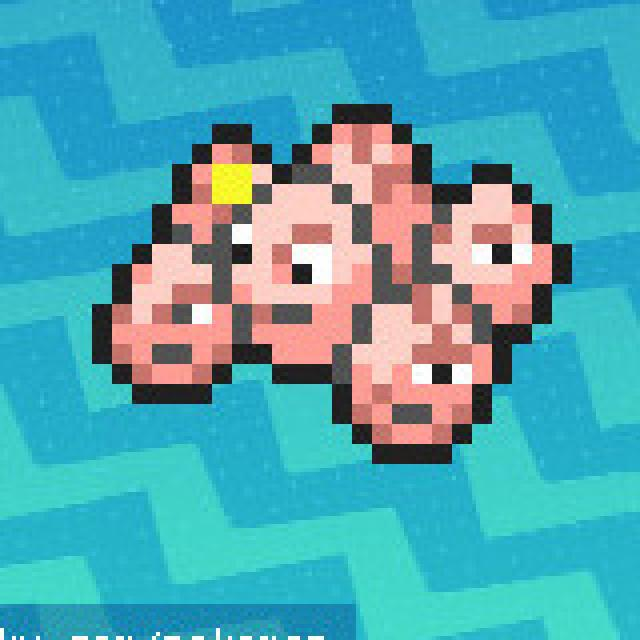Exeggcute: (84, 85, 574, 460)
